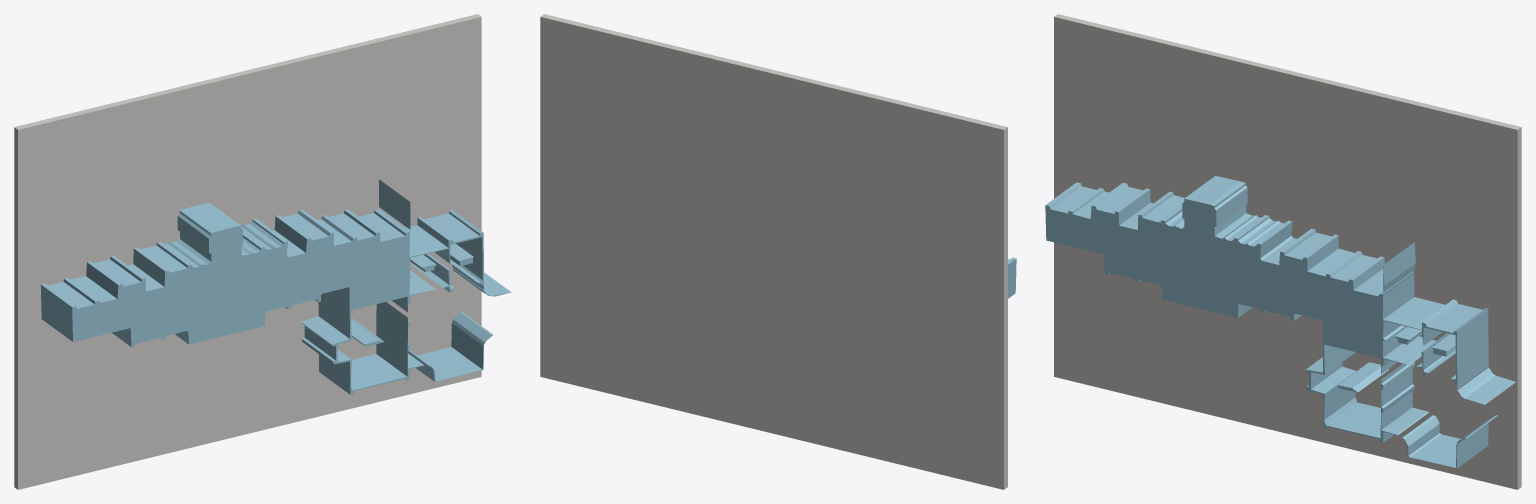
3 renders of one model, left to right at view 1: azimuth 30°, elevation 25°; view 2: azimuth 150°, elevation 25°; view 3: azimuth 330°, elevation 25°, orthographic.
Visible parts, largest first — view 1: world; view 2: world; view 3: world.
Part boxes in pixels (x1=…): world: x1=14, y1=14, x2=511, y2=489; world: x1=540, y1=14, x2=1016, y2=489; world: x1=1045, y1=14, x2=1521, y2=489.
Bounding box in the file's own units: 10.23 × 7.59 × 1.35.
